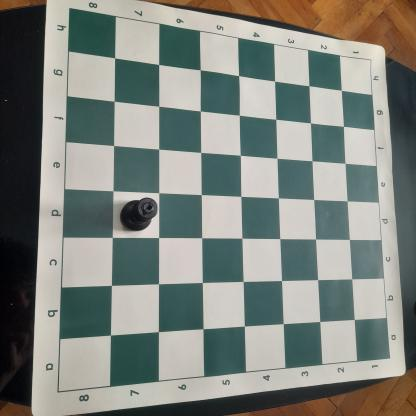black-king: (119, 196, 159, 233)
